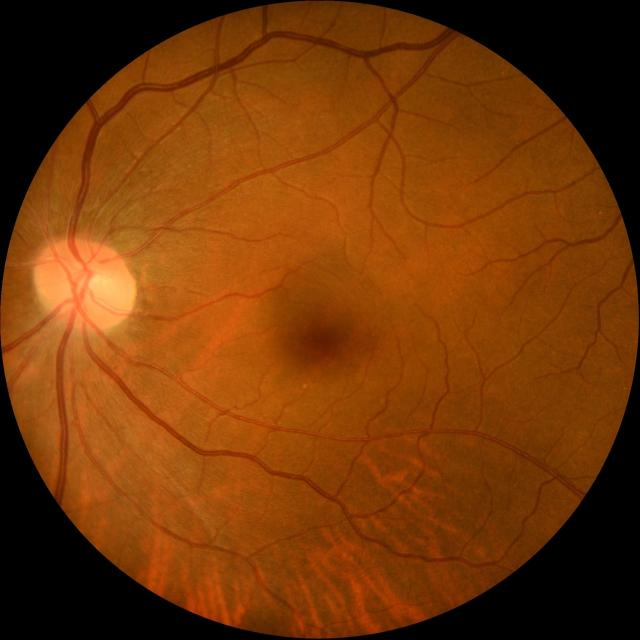OC: (72, 268, 101, 298)
OD: (35, 236, 134, 332)
